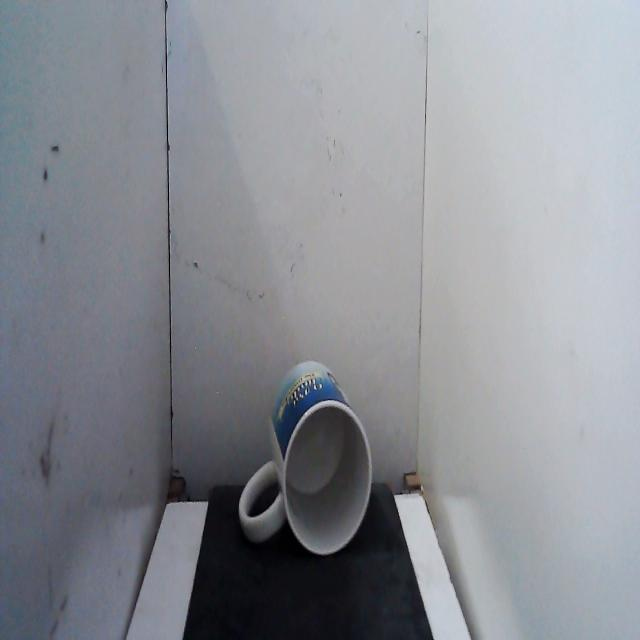vidro: (236, 353, 378, 570)
